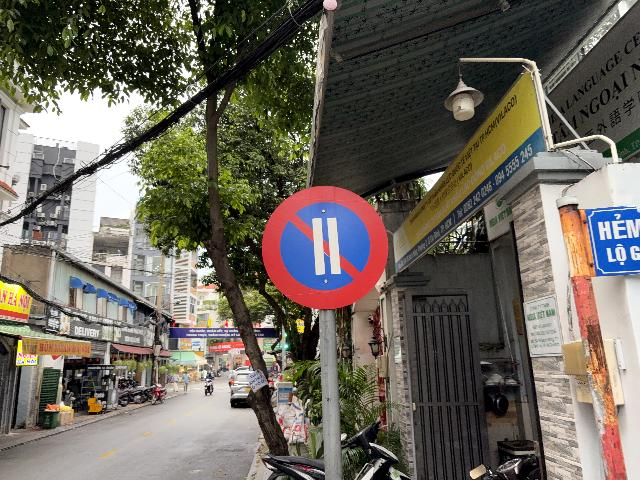cam-do-xe-ngay-chan: (263, 183, 388, 310)
